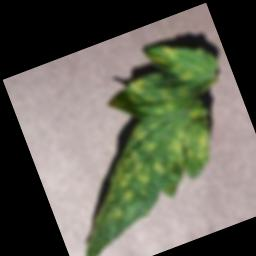Leaf_Mold: (13, 28, 256, 256)
